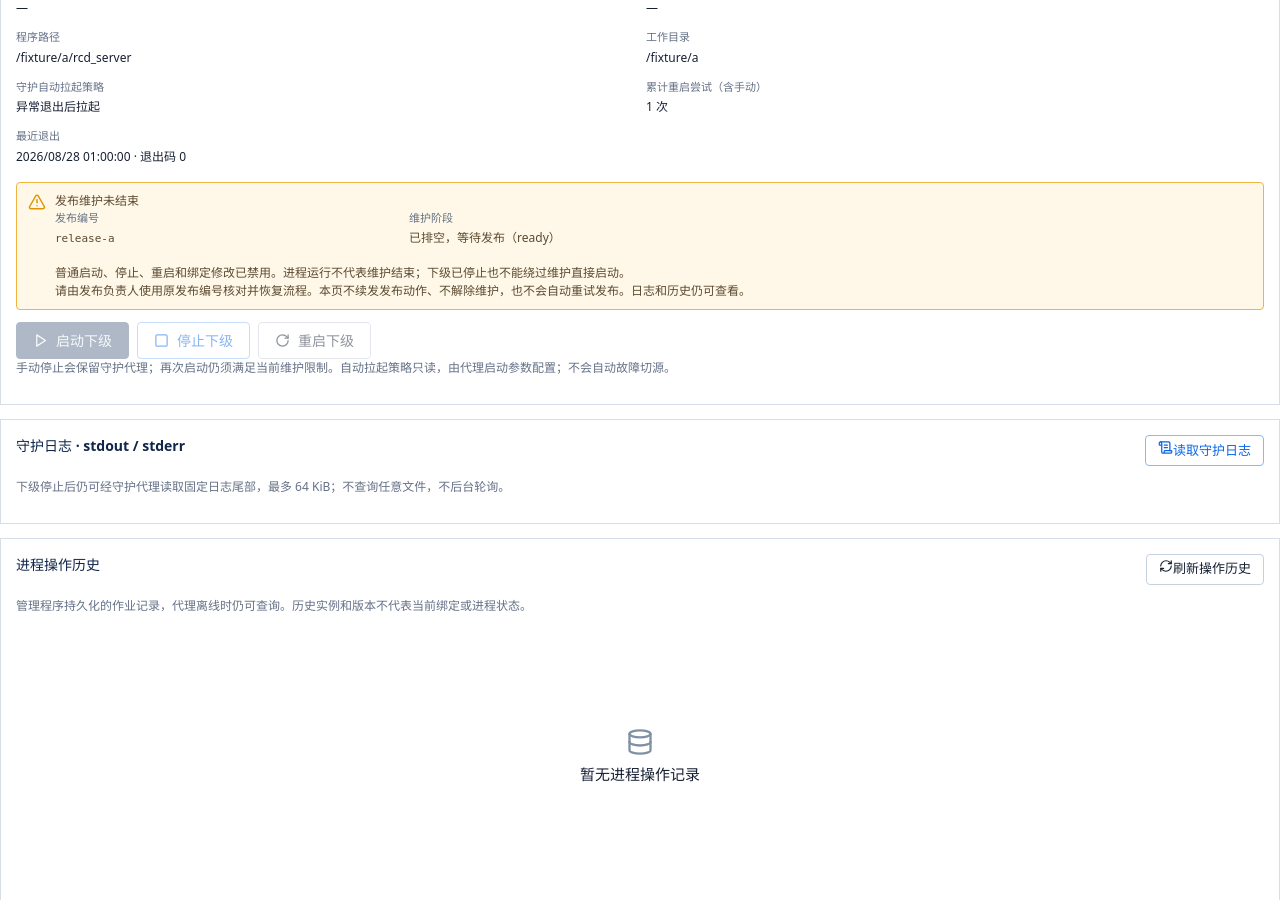
Test case: physical process management › fences active maintenance ready without blocking logs or history
The image size is (1280, 900).
(page scrolled)
Expected: the text "发布维护未结束" is shown, [55,192,139,208]
Expected: the text "release-a" is shown, [55,232,115,245]
What coordinates should you click on to do the following:
click the button "读取守护日志"
I would click on:
 (1204, 450)
Its box is [1145,434,1264,466].
(page scrolled)
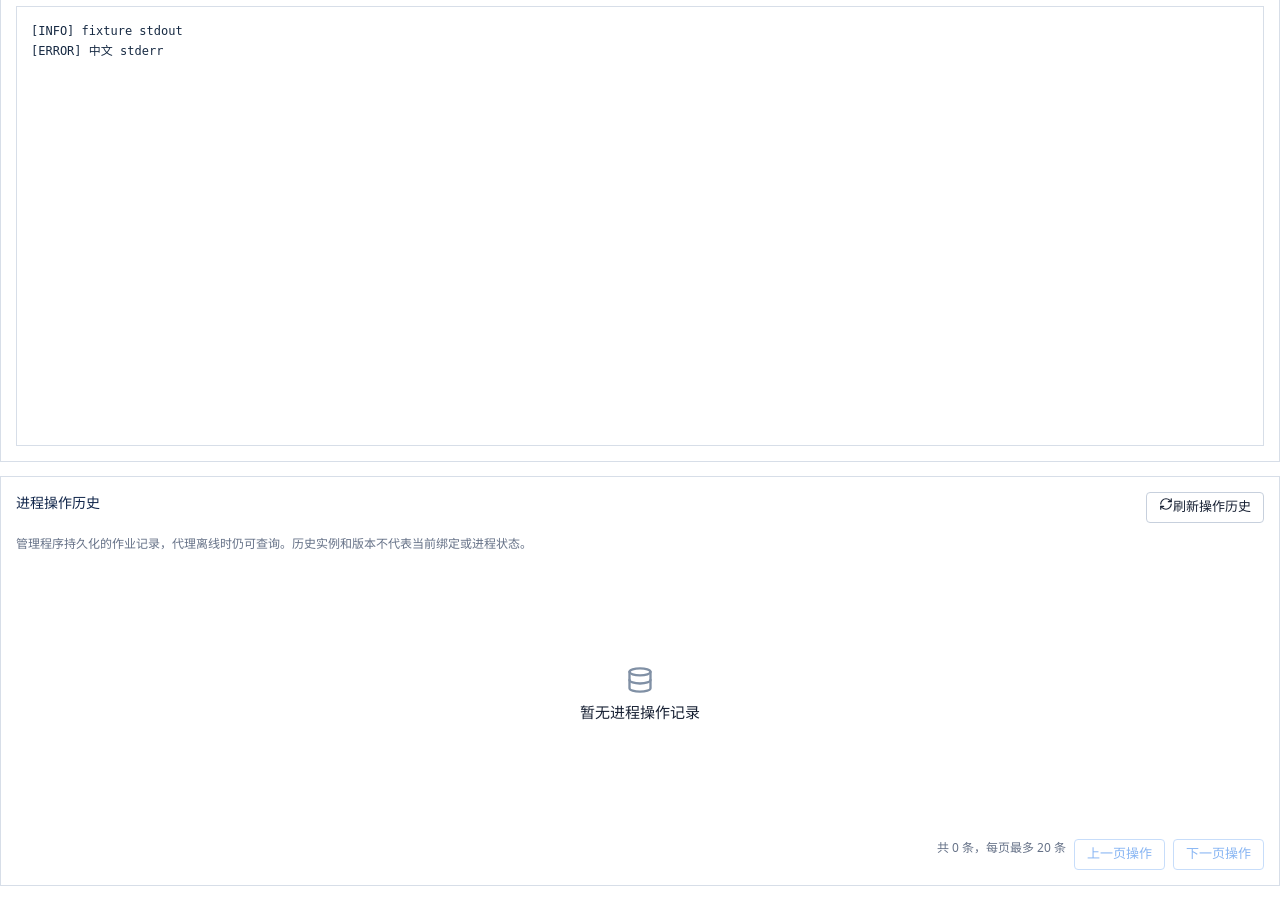
Expected: the button "刷新操作历史" is enabled, [1146,492,1264,522]
Now the text named "守护日志内容" shows "中文 stderr", box [31,24,183,58]
